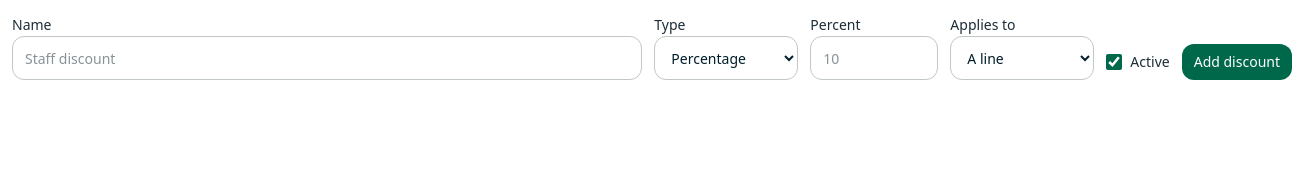
Test: DiscountForm › relabels the value field when the type changes, so the unit is never ambiguous
Expected: the field labelled "Percent" is shown, x1=810 y1=36 x2=938 y2=80
Select "Fixed amount" in the dropdown labelled "Type" at (726, 58), box x1=654 y1=36 x2=798 y2=80
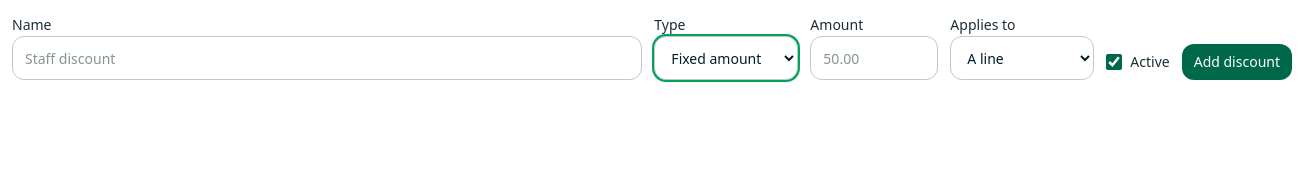
Expected: the field labelled "Amount" is shown, x1=810 y1=36 x2=938 y2=80
Result: the label labelled "Percent" is gone
